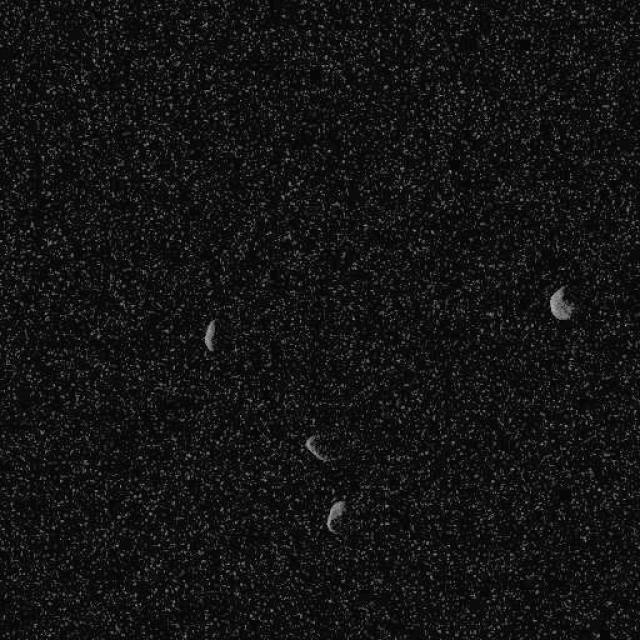D2: (302, 433, 332, 465), (548, 285, 574, 321), (324, 499, 346, 535), (202, 318, 218, 352)
